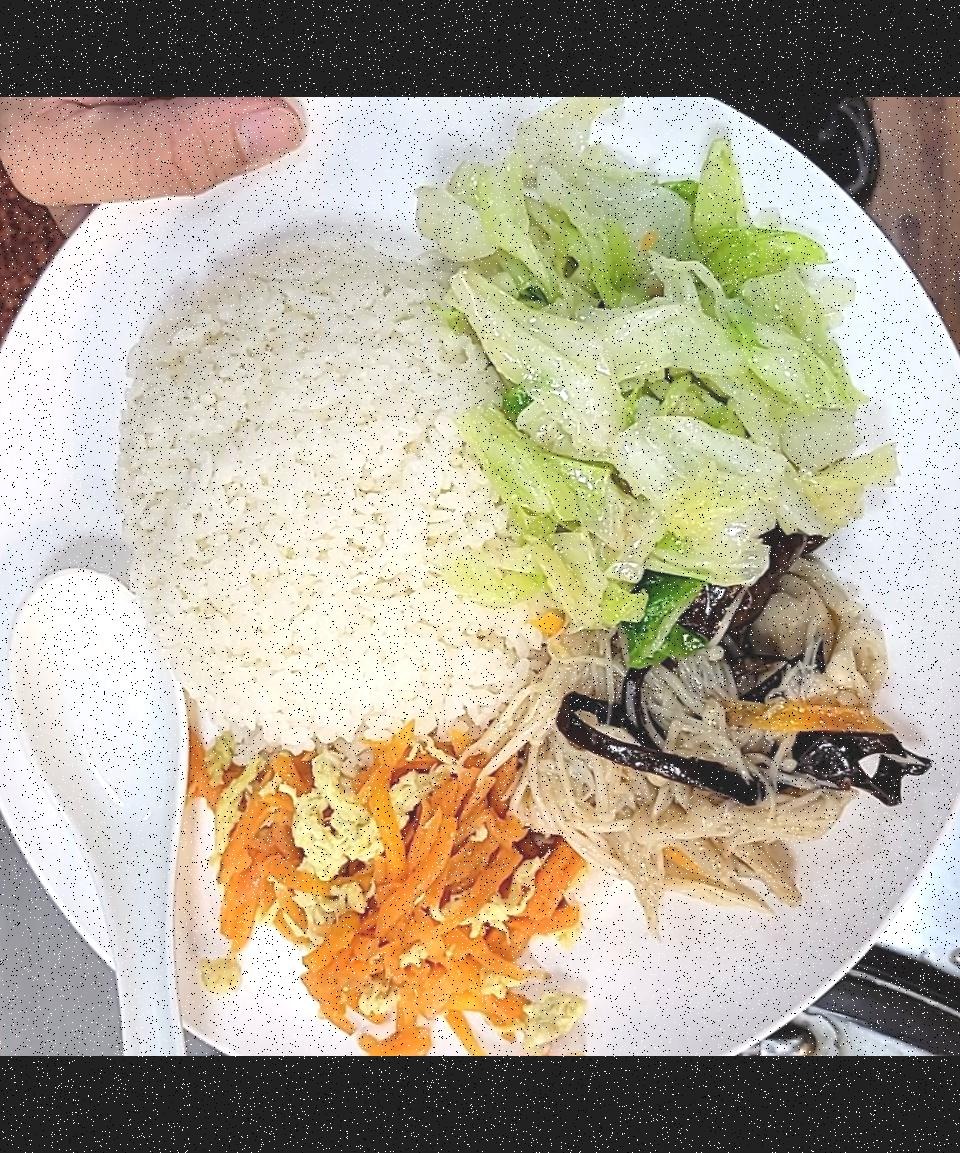plate: (0, 96, 960, 1056)
side dish: (414, 114, 871, 645), (501, 564, 906, 925), (192, 727, 570, 1040)
white rice: (116, 239, 546, 740)
